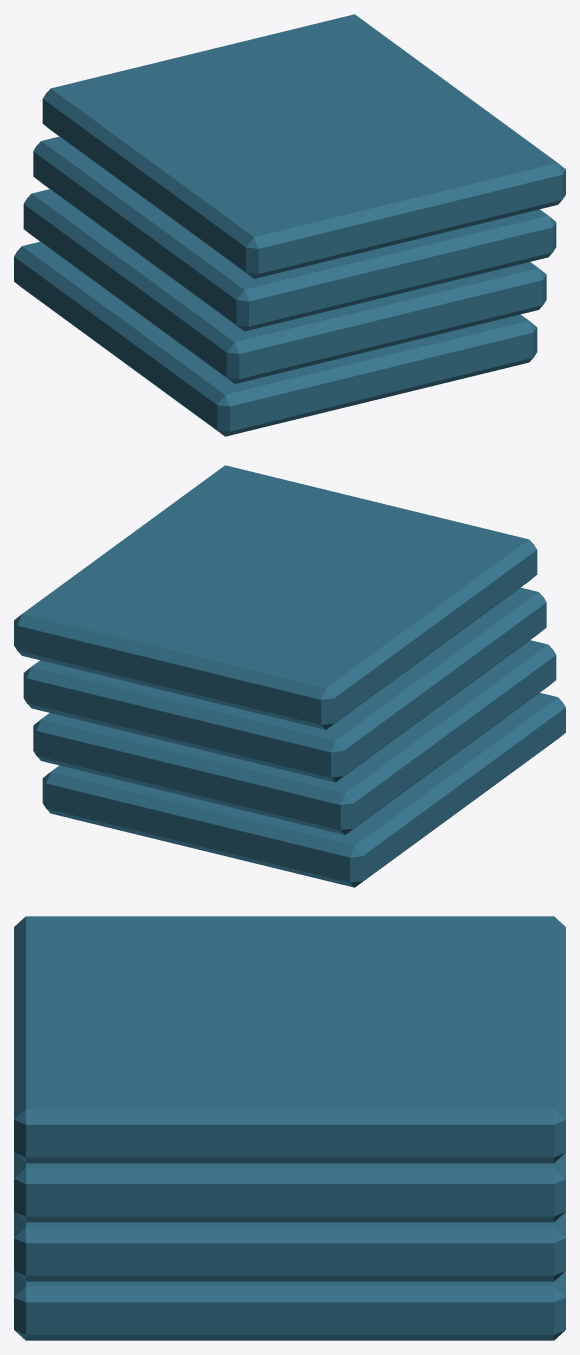
Rendered from set_map_case.glb.
3 renders of one model, top to bottom at view 1: azimuth 30°, elevation 25°; view 2: azimuth 150°, elevation 25°; view 3: azimuth 270°, elevation 25°, orthographic. The views are drawn at different scales.
Visible parts, largest first — view 1: set_map_case; view 2: set_map_case; view 3: set_map_case.
Boxes of the visible parts, left/top/right/bottom form: set_map_case: left=14, top=14, right=565, bottom=436; set_map_case: left=14, top=465, right=565, bottom=887; set_map_case: left=14, top=916, right=565, bottom=1340.
Bounding box in the file's own units: 0.218 × 0.115 × 0.23.
